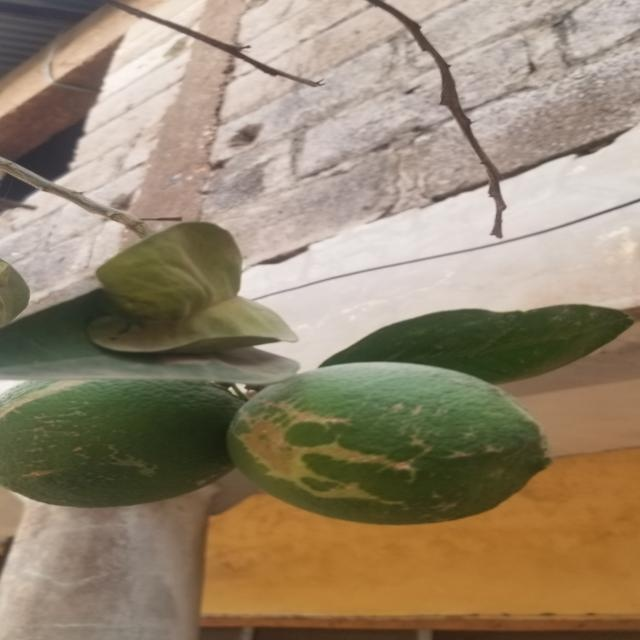agrume: (222, 362, 552, 527), (10, 368, 235, 508)
